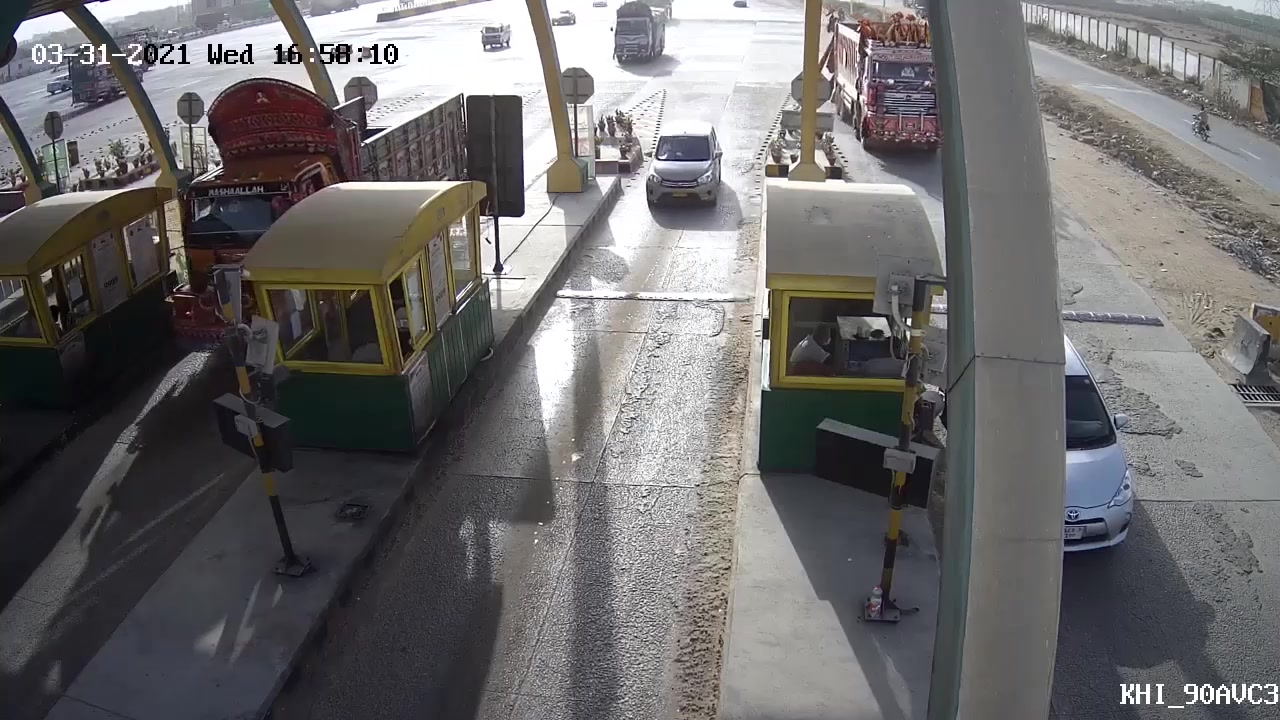F1: (639, 122, 730, 220)
